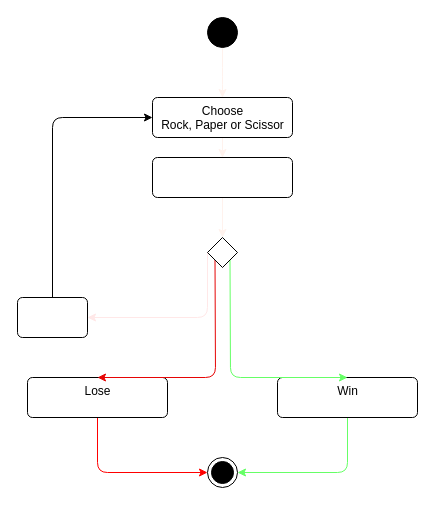
The diagram is 435 pixels wide and 505 high, and some of its shapes have lost their labels. Each missing label, with the centre of its shape:
"Computer vælger Random R,P, S" belongs at [222,177].
"Tie" belongs at [52,317].
